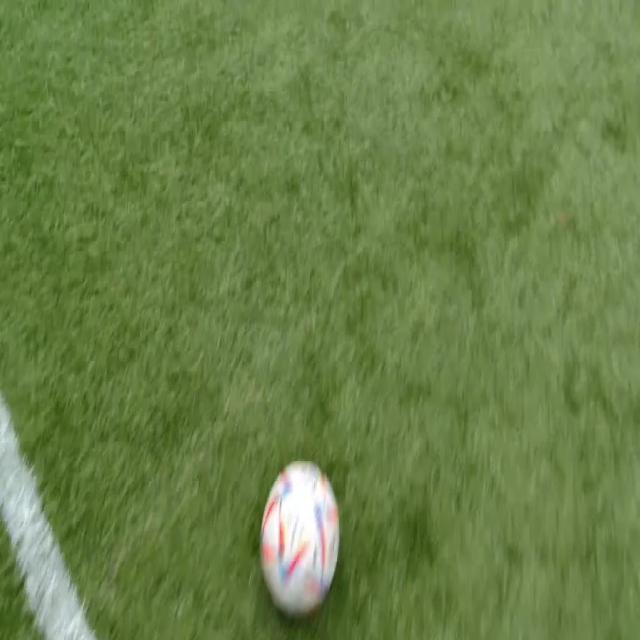ball: (260, 460, 340, 615)
